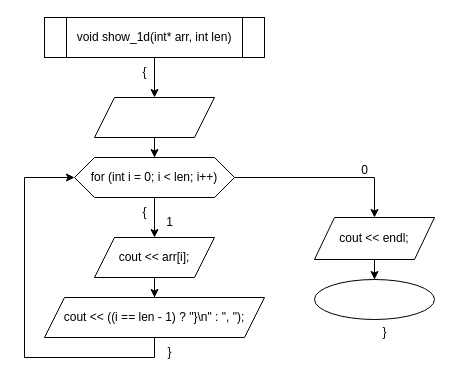
Image size: 452x385. Some labels were removed from this diagram. The centre of each missing label's shape, as x and y in pixels:
"cout << '{';" goes at [154,117].
"return;" goes at [374,299].
